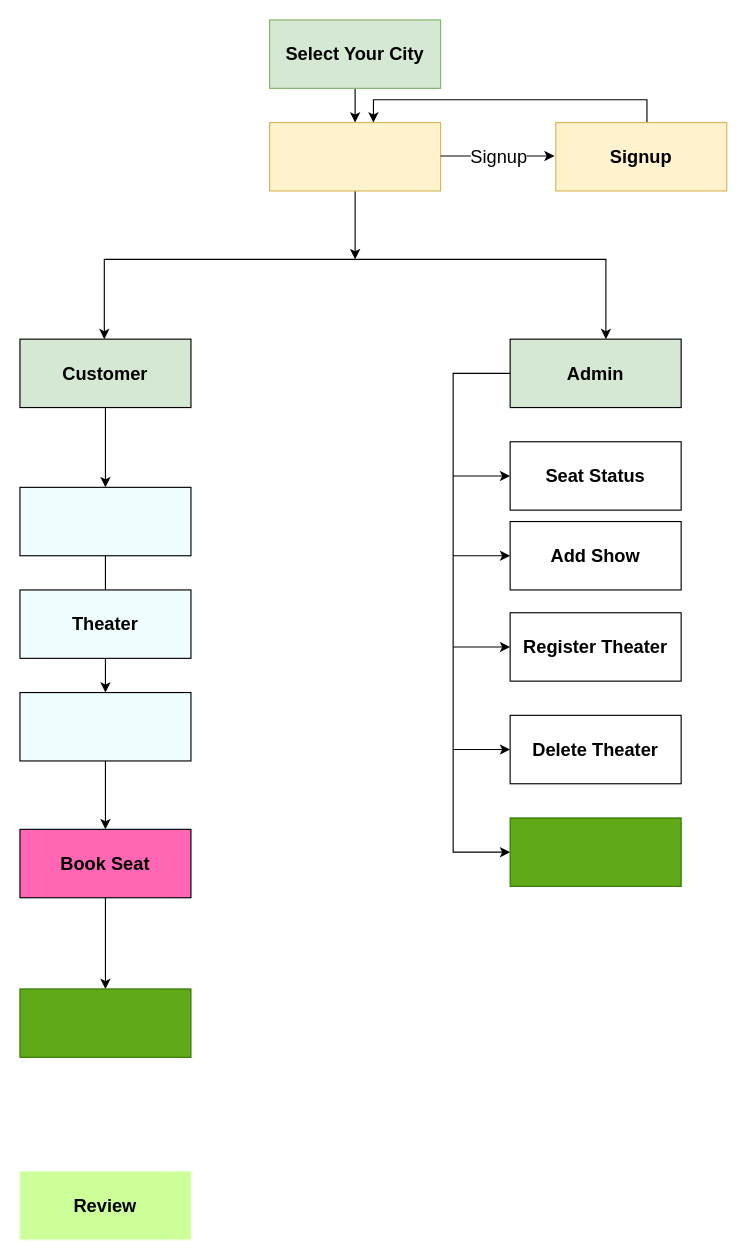
The diagram is 747 pixels wide and 1260 high, and some of its shapes have lost their labels. Each missing label, with the centre of its shape:
Choose Date: point 105,521
Login: point 354,156
Payment: point 105,1022
Timing: point 105,726
Verify: point 595,851
